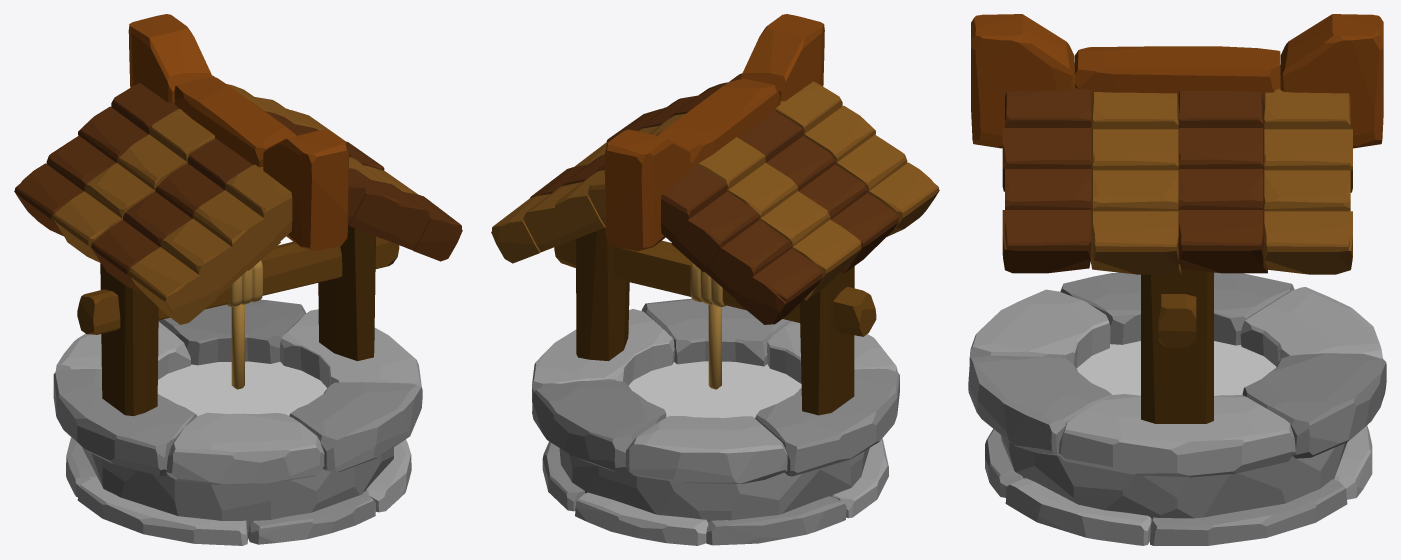
Rendered from Well01.fbx.
The picture shows the model from 3 angles, left to right: view 1: azimuth 30°, elevation 25°; view 2: azimuth 150°, elevation 25°; view 3: azimuth 270°, elevation 25°; orthographic projection. The views are drawn at different scales.
Parts seen in each view (by area): view 1: LOD0; view 2: LOD0; view 3: LOD0.
Boxes of the visible parts, <box> form: LOD0: <box>14,14,462,545</box>; LOD0: <box>491,14,939,545</box>; LOD0: <box>968,14,1386,545</box>.
Size of what is drawn, in the model's own units: 262 by 262 by 304.
